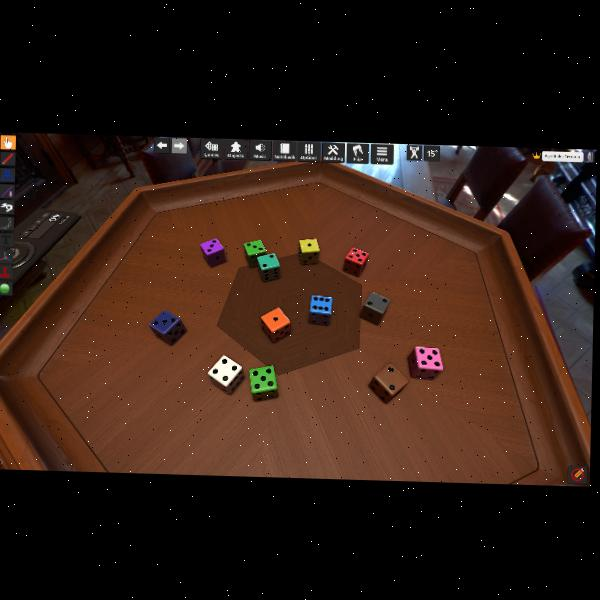d6: (368, 362, 406, 404), (207, 354, 244, 395), (149, 308, 187, 345), (407, 344, 441, 377), (260, 306, 290, 342), (249, 366, 279, 402), (360, 290, 389, 326), (199, 237, 226, 268), (343, 246, 368, 277), (308, 294, 332, 326), (256, 251, 281, 281), (242, 238, 265, 269), (298, 237, 319, 266)
